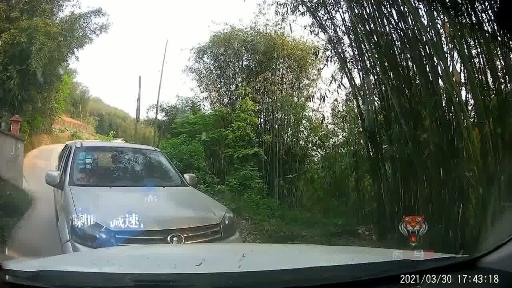Accident: (52, 100, 433, 288)
